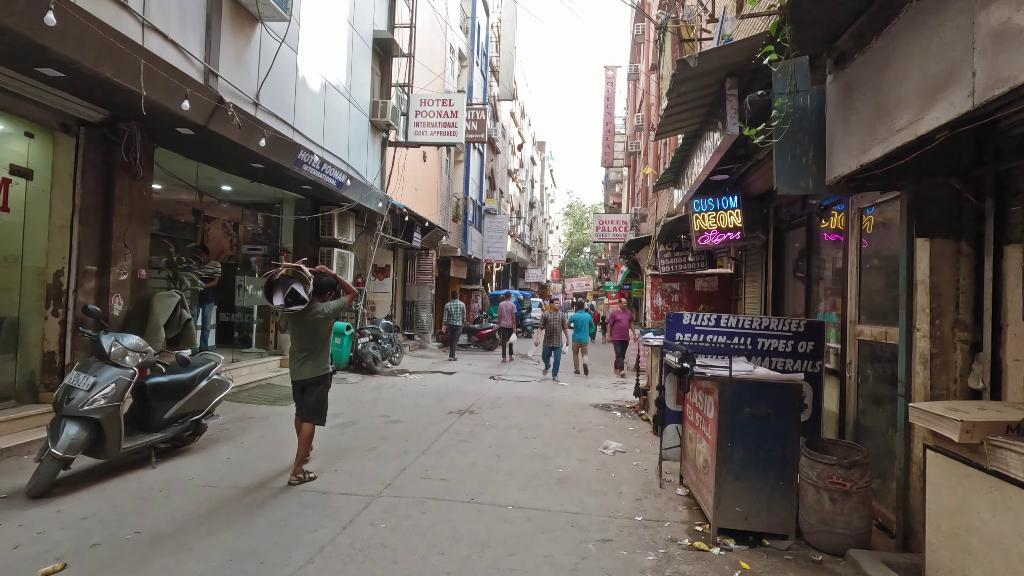garbage: (595, 441, 631, 455), (39, 560, 69, 575)
